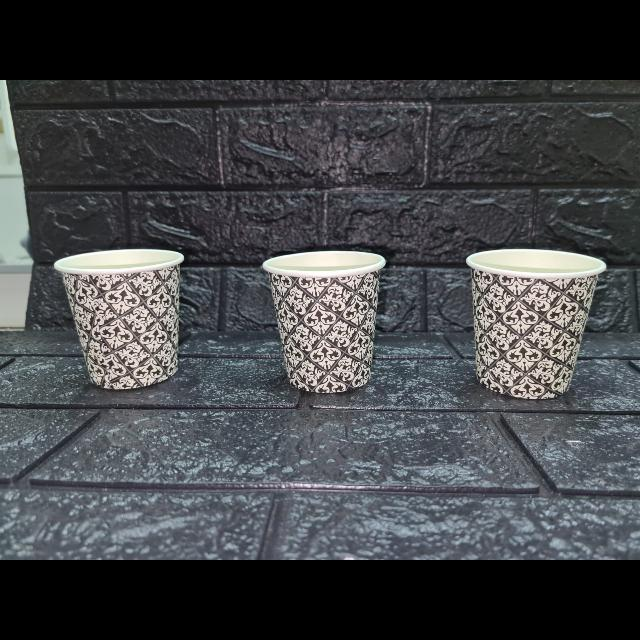trash: (50, 250, 206, 394), (462, 244, 598, 398), (259, 254, 395, 394)
